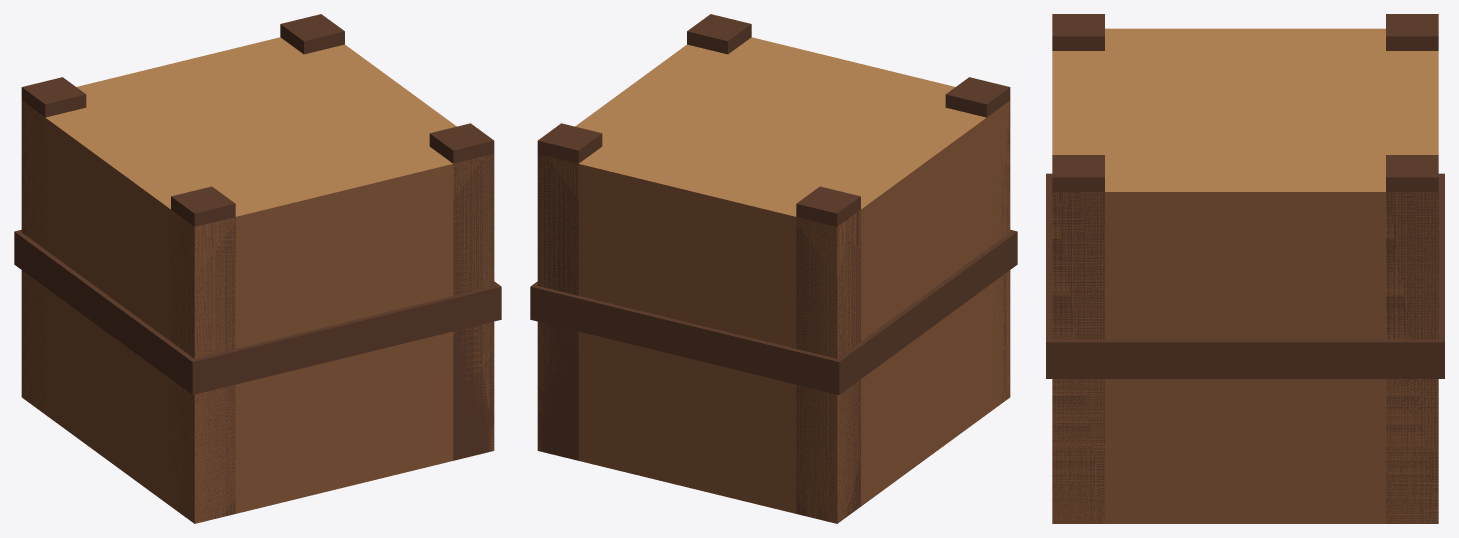
File: CA_Caja_Madera.obj
3 renders of one model, left to right at view 1: azimuth 30°, elevation 25°; view 2: azimuth 150°, elevation 25°; view 3: azimuth 270°, elevation 25°, orthographic. The views are drawn at different scales.
Parts seen in each view (by area): view 1: CA_Caja_Madera; view 2: CA_Caja_Madera; view 3: CA_Caja_Madera.
Part boxes in pixels (x1,y1,x2,y2): CA_Caja_Madera: [14, 14, 501, 523]; CA_Caja_Madera: [530, 14, 1017, 523]; CA_Caja_Madera: [1046, 14, 1444, 523].
Bounding box in the file's own units: 0.98 × 0.94 × 0.98.
